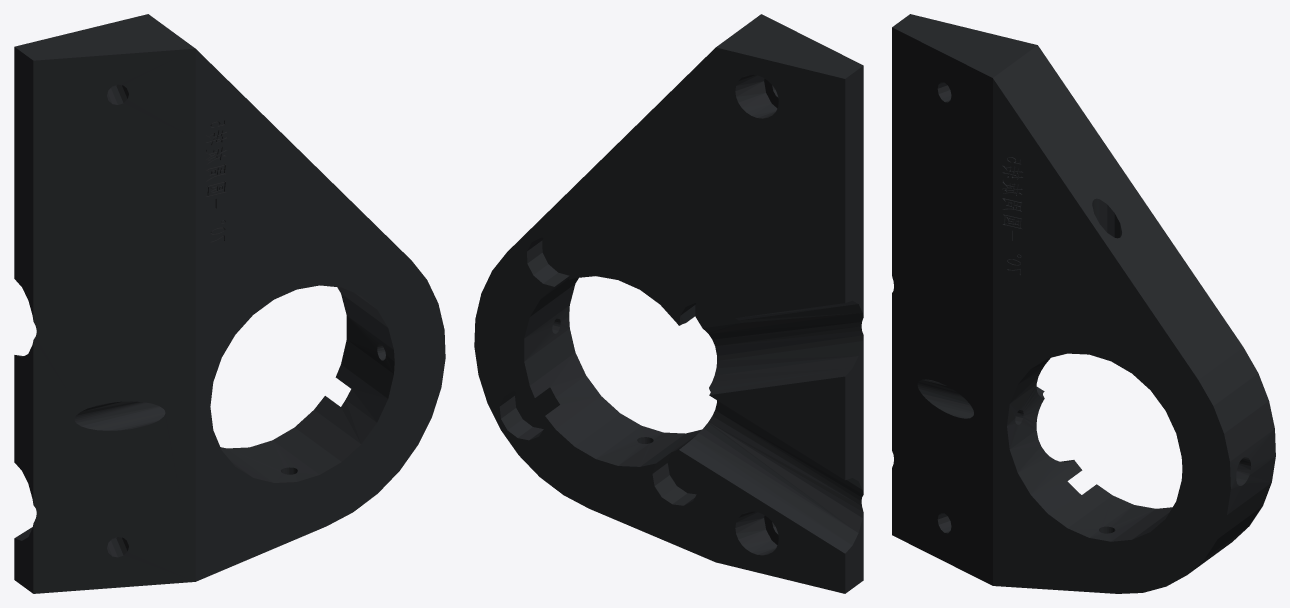
File: left_bracket_link_vis.obj
The picture shows the model from 3 angles, left to right: view 1: azimuth 30°, elevation 25°; view 2: azimuth 150°, elevation 25°; view 3: azimuth 330°, elevation 25°; orthographic projection. The views are drawn at different scales.
Parts seen in each view (by area): view 1: left_bracket_link; view 2: left_bracket_link; view 3: left_bracket_link.
Part boxes in pixels (box(x1,y1,x2,y2)): left_bracket_link: box(14, 14, 445, 593); left_bracket_link: box(474, 14, 863, 593); left_bracket_link: box(892, 14, 1275, 593).
Size of the model in its own units: 0.0845 by 0.112 by 0.018.
Materials: 1 (1 with a texture image).
